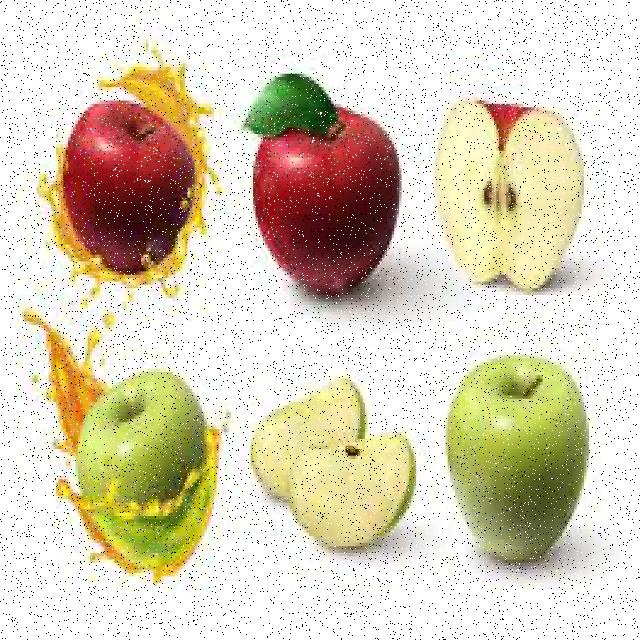Apple: (448, 357, 588, 556), (256, 105, 404, 290), (436, 104, 583, 289), (75, 371, 206, 556), (60, 104, 192, 276), (290, 425, 419, 548), (246, 380, 360, 496)
